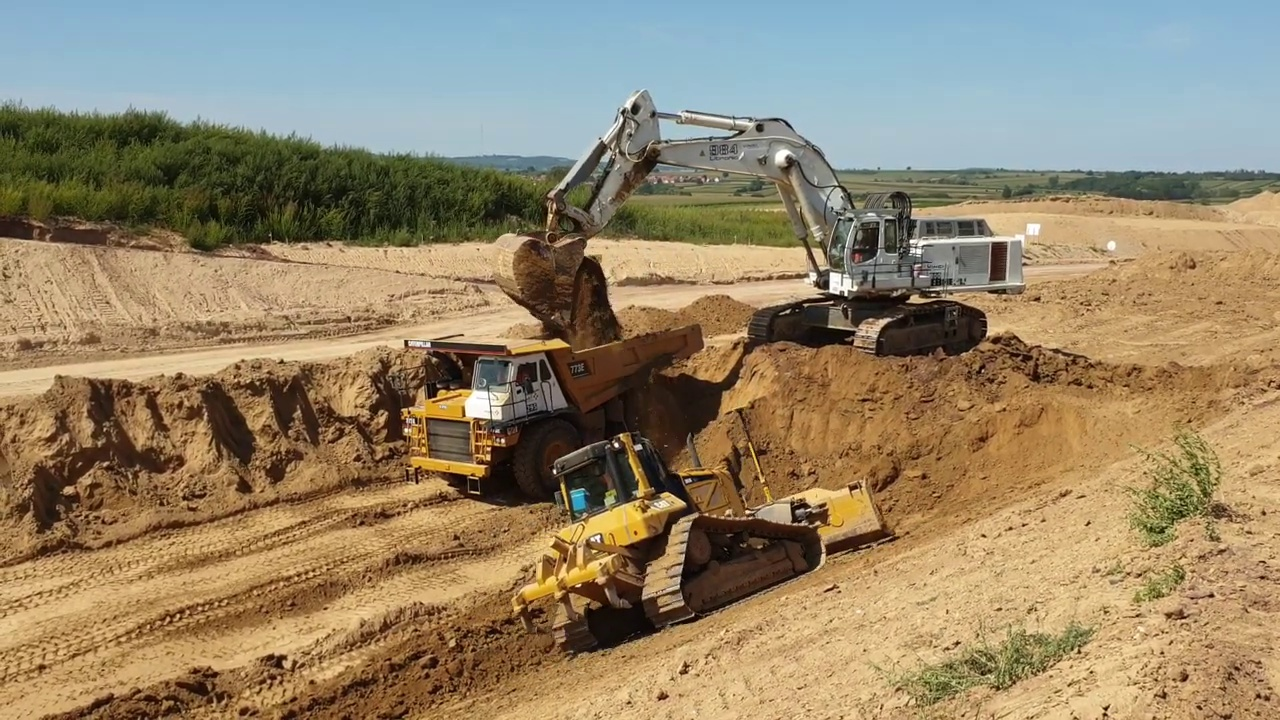bulldozer: (515, 426, 898, 661)
excavator: (485, 85, 1033, 361)
truck: (404, 323, 708, 503)
